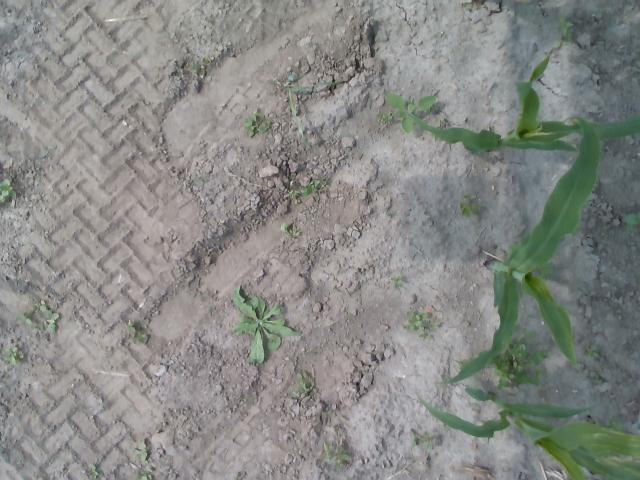Maize: (434, 112, 602, 388), (398, 45, 640, 158), (415, 387, 640, 480)
Weeds: (230, 285, 302, 367), (274, 74, 350, 150), (483, 328, 551, 390), (386, 92, 436, 134), (404, 310, 440, 340), (30, 299, 59, 333), (243, 106, 271, 138), (322, 443, 351, 469), (408, 428, 436, 451), (554, 16, 574, 48), (458, 193, 484, 217), (291, 371, 315, 397), (123, 320, 147, 344), (300, 180, 328, 198), (0, 177, 18, 203), (2, 346, 24, 366), (190, 56, 212, 75), (622, 212, 640, 233), (605, 414, 623, 433), (280, 222, 300, 236), (134, 442, 148, 462), (582, 344, 598, 360), (132, 468, 152, 480), (288, 188, 302, 204), (16, 312, 32, 326), (90, 463, 100, 480), (391, 276, 404, 288), (376, 113, 393, 121), (590, 374, 602, 384), (632, 60, 640, 72), (322, 408, 331, 416), (233, 475, 241, 480), (386, 210, 392, 215), (332, 288, 338, 293), (463, 2, 468, 7)
